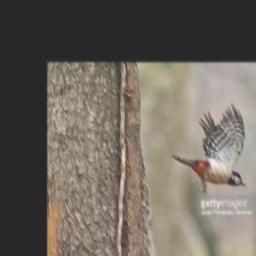Woodpecker: (171, 103, 246, 194)
